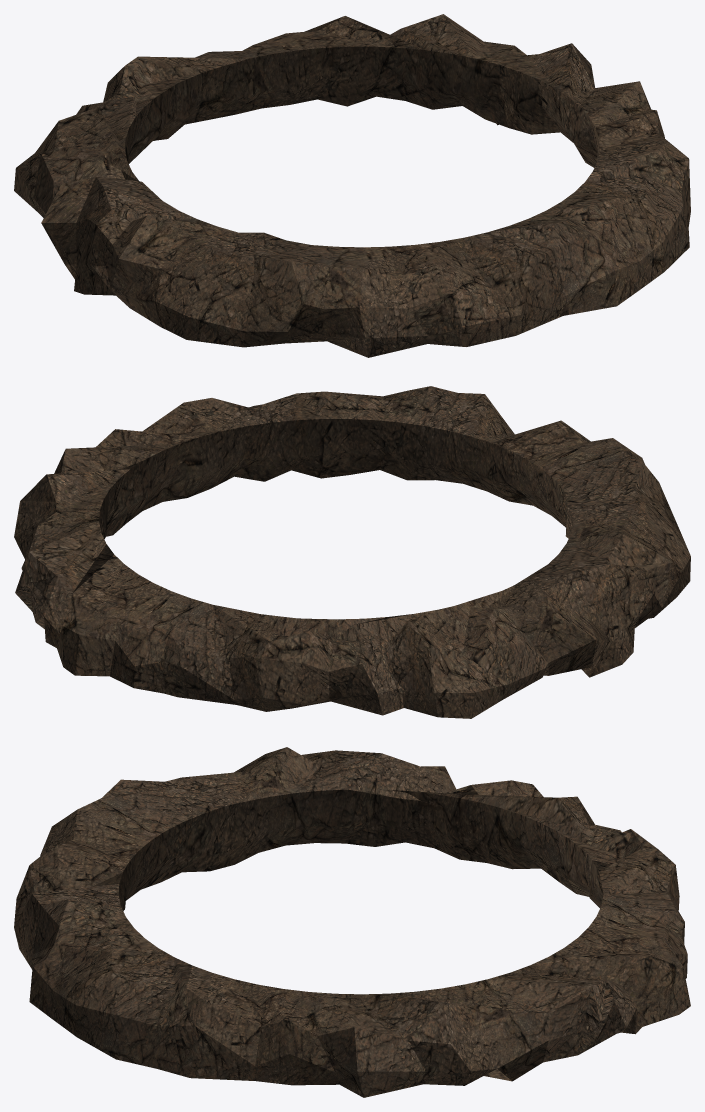
Rendered from Spooky_Tower_Rocks_Base_Art.fbx.
The picture shows the model from 3 angles, top to bottom: view 1: azimuth 30°, elevation 25°; view 2: azimuth 150°, elevation 25°; view 3: azimuth 270°, elevation 25°; orthographic projection. The views are drawn at different scales.
Visible parts, largest first — view 1: Spooky_Tower_Rocks_Base_Art; view 2: Spooky_Tower_Rocks_Base_Art; view 3: Spooky_Tower_Rocks_Base_Art.
Part boxes in pixels (box(x1,y1,x2,y2)): Spooky_Tower_Rocks_Base_Art: box(14, 14, 690, 357); Spooky_Tower_Rocks_Base_Art: box(14, 386, 690, 718); Spooky_Tower_Rocks_Base_Art: box(14, 747, 690, 1097).
Bounding box in the file's own units: 1343 × 228 × 1331.
